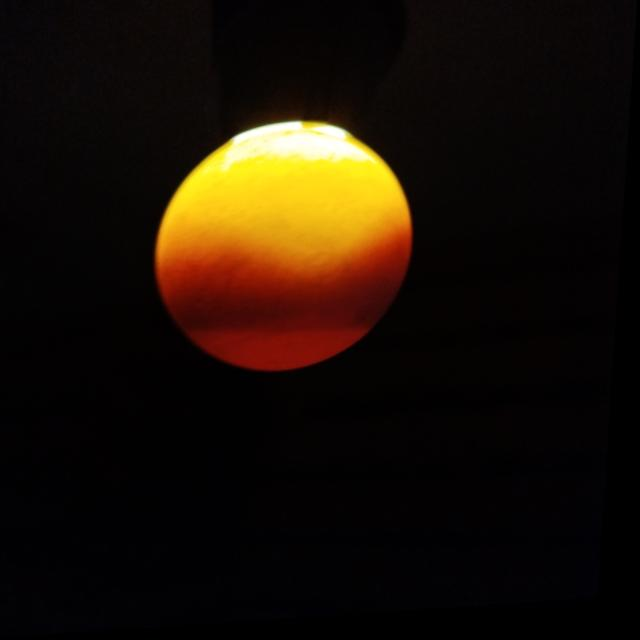Area Infectada: (177, 284, 401, 335)
